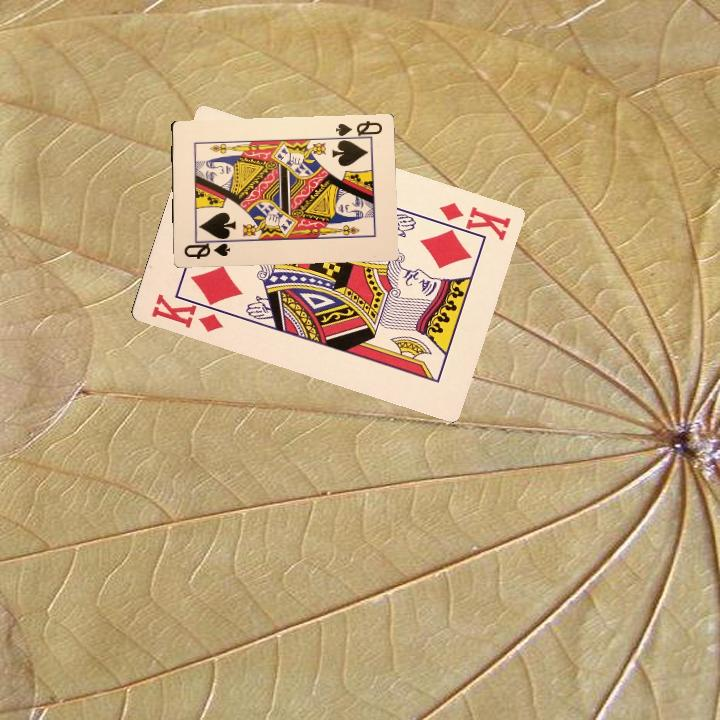Kd: (425, 198, 513, 244), (147, 287, 228, 335)
Qs: (332, 117, 385, 144), (180, 236, 234, 261)
